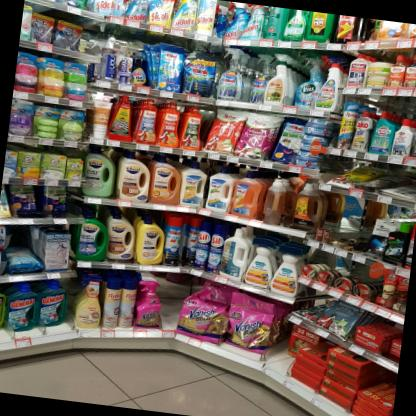empty_space: (157, 273, 181, 329), (265, 356, 294, 375)
